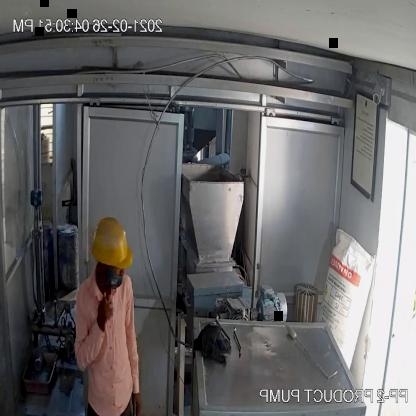helmet: (86, 212, 138, 275)
